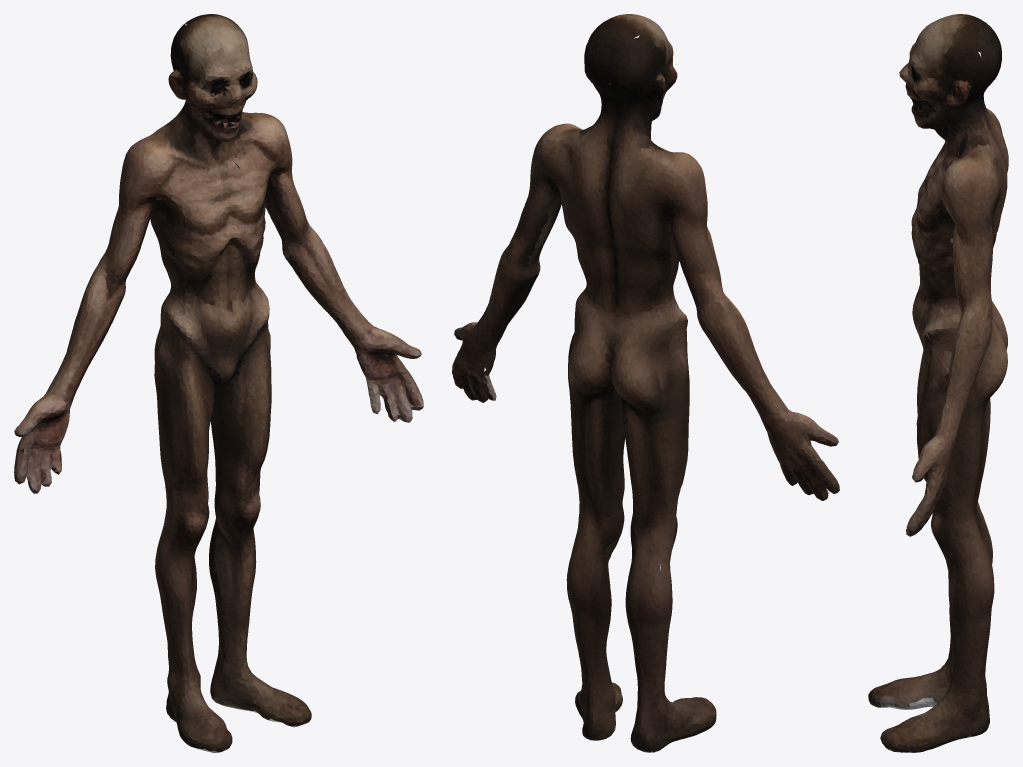
Rendered from char2.glb.
3 views of the same model, side by side, from view 1: azimuth 30°, elevation 25°; view 2: azimuth 150°, elevation 25°; view 3: azimuth 270°, elevation 25° (orthographic). The views are drawn at different scales.
Parts seen in each view (by area): view 1: world; view 2: world; view 3: world.
Boxes of the visible parts, x1,y1,x2,y2 form: world: (14,14,423,752); world: (452,14,839,752); world: (868,14,1008,752).
Bounding box in the file's own units: 5.83 × 9.97 × 1.8.
Materials: 1 (1 with a texture image).
